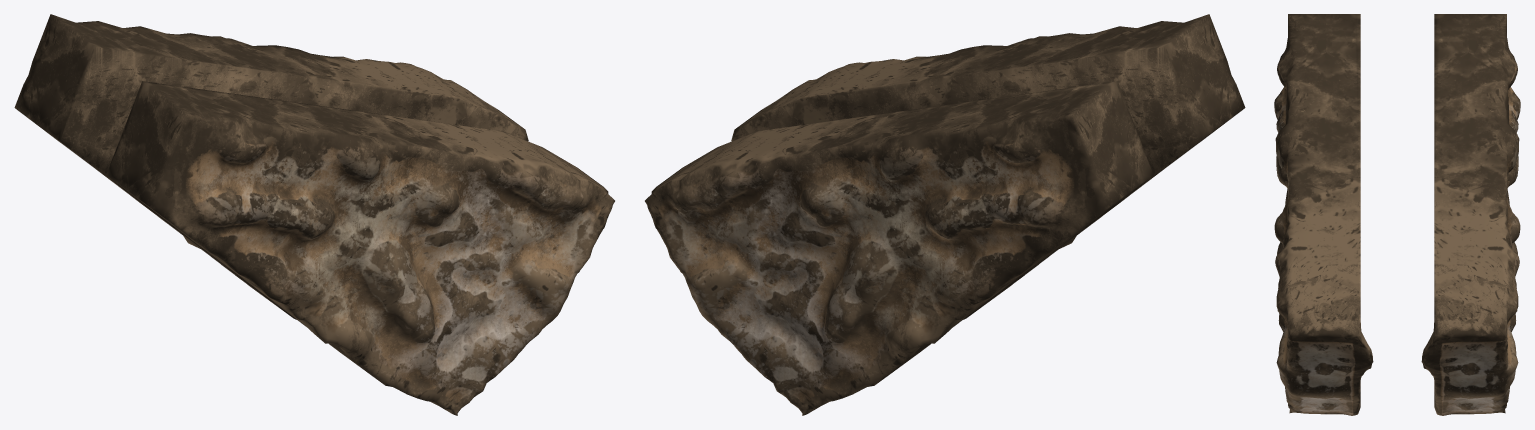
Rendered from 1.3Ornament.obj.
The picture shows the model from 3 angles, left to right: view 1: azimuth 30°, elevation 25°; view 2: azimuth 150°, elevation 25°; view 3: azimuth 270°, elevation 25°; orthographic projection. The views are drawn at different scales.
Parts seen in each view (by area): view 1: Grip.010_Plane.020; view 2: Grip.010_Plane.020; view 3: Grip.010_Plane.020.
Boxes of the visible parts, box(x1,y1,x2,y2) form: Grip.010_Plane.020: box(14, 14, 614, 415); Grip.010_Plane.020: box(645, 14, 1245, 415); Grip.010_Plane.020: box(1274, 14, 1520, 415).
Size of the model in its own units: 0.3868 by 0.2915 by 0.2208.
